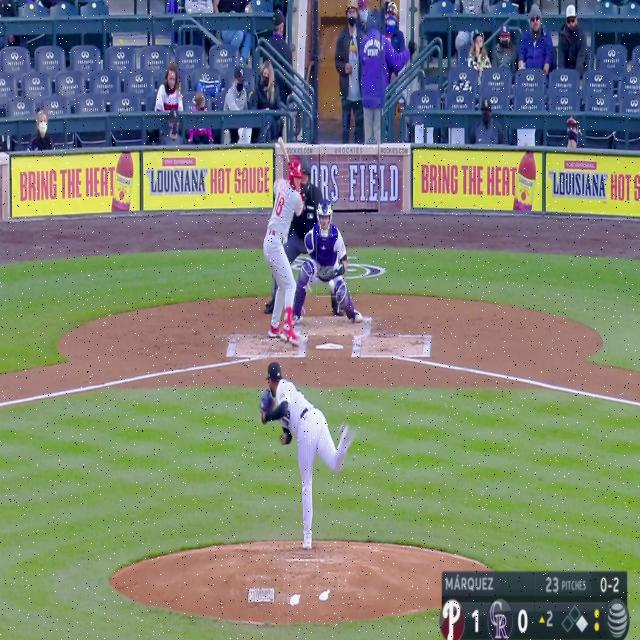baseball: (328, 277, 336, 290)
